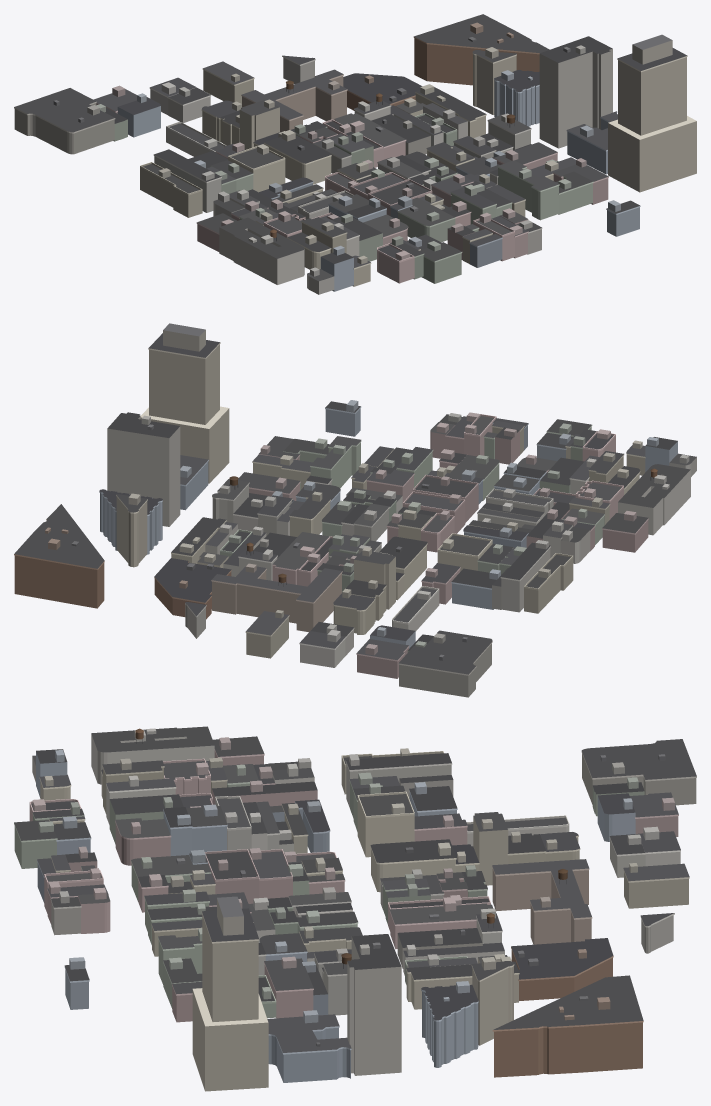
File: 0_3.bld.glb
3 renders of one model, top to bottom at view 1: azimuth 30°, elevation 25°; view 2: azimuth 150°, elevation 25°; view 3: azimuth 270°, elevation 25°, orthographic. The views are drawn at different scales.
Parts seen in each view (by area): view 1: 0_3; view 2: 0_3; view 3: 0_3.
Part boxes in pixels (x1,y1,x2,y2): 0_3: (14,14,696,294); 0_3: (14,323,696,697); 0_3: (14,726,696,1091).
Size of the model in its own units: 286 by 73.82 by 279.
